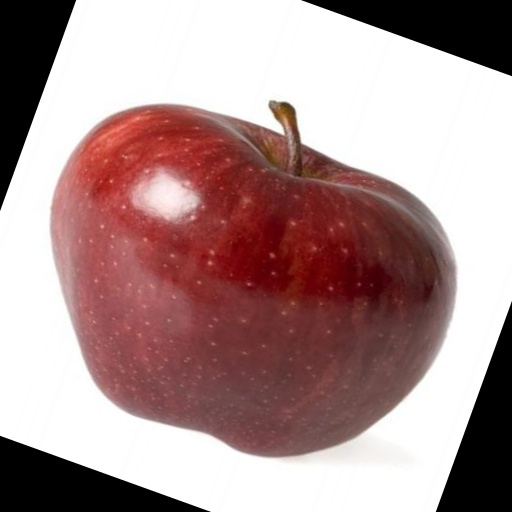fruit: (0, 57, 137, 386)
